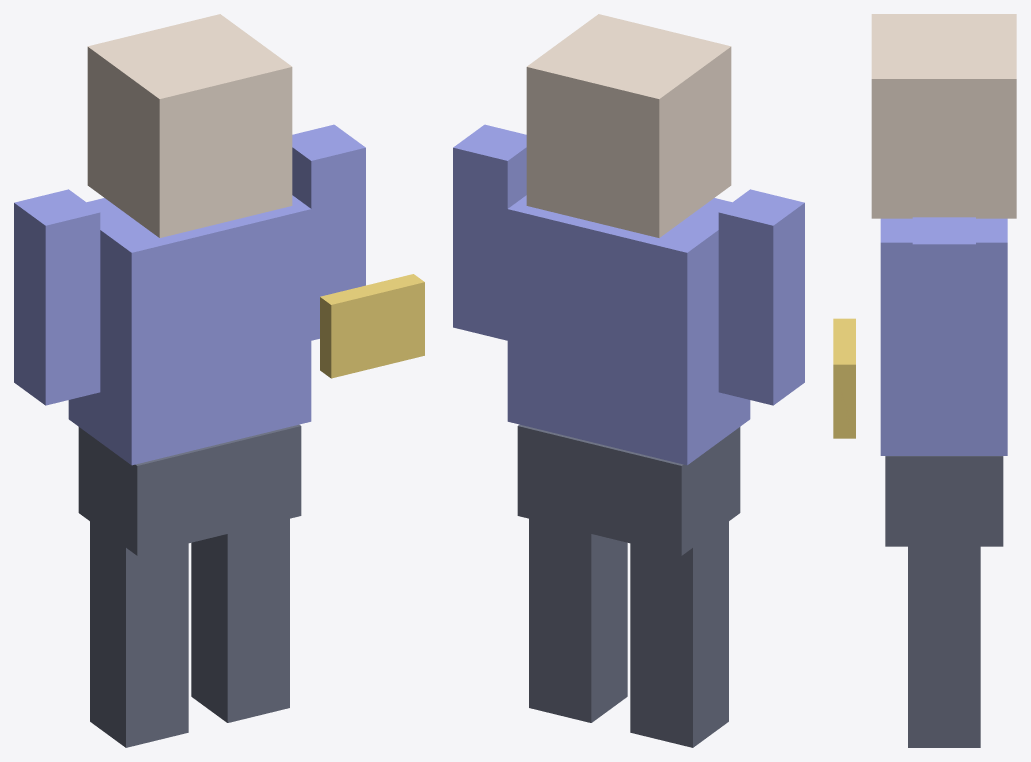
Rendered from character_base.glb.
3 views of the same model, side by side, from view 1: azimuth 30°, elevation 25°; view 2: azimuth 150°, elevation 25°; view 3: azimuth 270°, elevation 25° (orthographic).
Visible parts, largest first — view 1: Torso, Head, Hips, Leg_L, Leg_R, Arm_L, Arm_R, Carry_Folder; view 2: Torso, Head, Hips, Leg_L, Leg_R, Arm_L, Arm_R; view 3: Head, Torso, Leg_R, Arm_R, Hips, Carry_Folder.
Boxes of the visible parts, <box> form: Torso: <box>68,195,311,465</box>; Head: <box>87,14,292,237</box>; Hips: <box>78,424,301,555</box>; Leg_L: <box>90,509,188,747</box>; Leg_R: <box>191,518,289,722</box>; Arm_L: <box>14,189,100,405</box>; Arm_R: <box>292,124,365,340</box>; Carry_Folder: <box>320,274,424,378</box>; Torso: <box>507,195,750,465</box>; Head: <box>526,14,731,237</box>; Hips: <box>517,424,740,555</box>; Leg_L: <box>630,509,728,747</box>; Leg_R: <box>529,518,627,722</box>; Arm_L: <box>718,189,804,405</box>; Arm_R: <box>453,124,526,340</box>; Head: <box>871,14,1016,218</box>; Torso: <box>880,218,1007,455</box>; Leg_R: <box>908,546,980,747</box>; Arm_R: <box>912,217,975,424</box>; Hips: <box>885,456,1003,546</box>; Carry_Folder: <box>833,318,855,438</box>.
Bounding box in the file's own units: 0.87 × 1.61 × 0.405.
